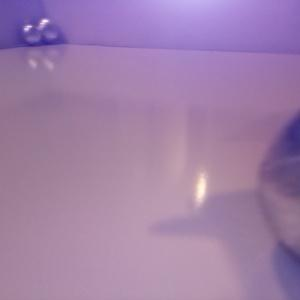alive_ball: (259, 109, 300, 258), (37, 17, 60, 44), (21, 23, 40, 45)
